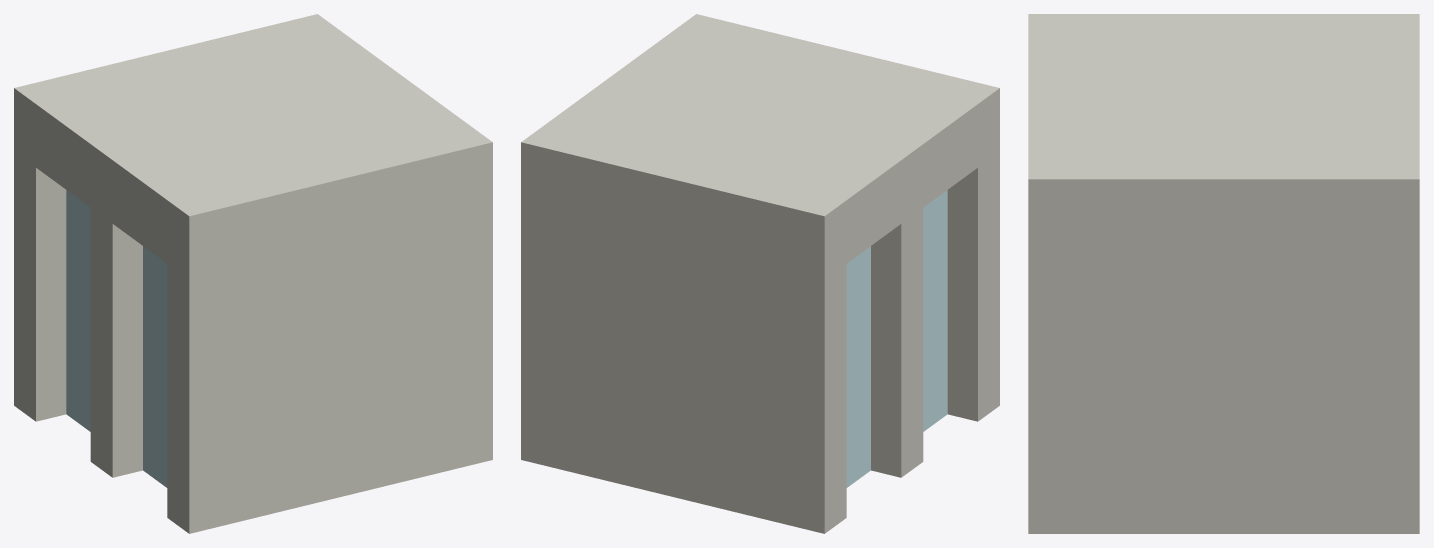
File: Building Story 8.fbx
3 views of the same model, side by side, from view 1: azimuth 30°, elevation 25°; view 2: azimuth 150°, elevation 25°; view 3: azimuth 270°, elevation 25° (orthographic). The views are drawn at different scales.
Parts seen in each view (by area): view 1: Building Story 8; view 2: Building Story 8; view 3: Building Story 8.
Boxes of the visible parts, <box> form: Building Story 8: <box>14,14,492,533</box>; Building Story 8: <box>521,14,999,533</box>; Building Story 8: <box>1028,14,1419,533</box>.
Bounding box in the file's own units: 1 × 1 × 1.
